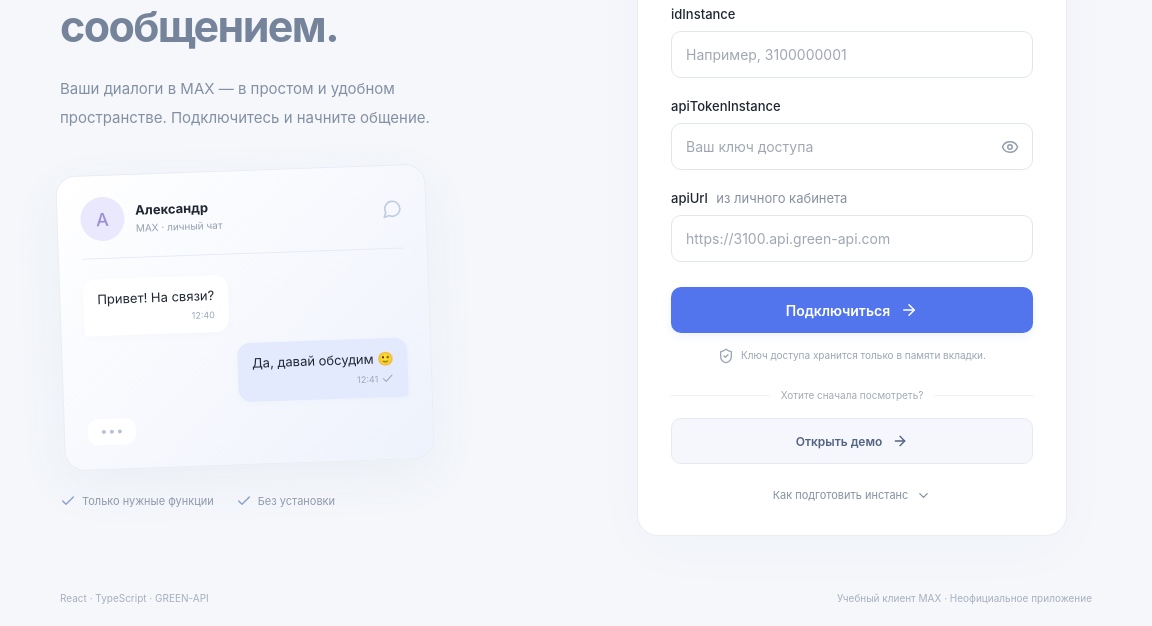
Test case: Пользовательские сценарии › создаёт чат, проверяет неверный телефон и фильтрует список
(page scrolled)
Click the button "Открыть демо" at (852,441), box [671, 418, 1033, 464]
(page scrolled)
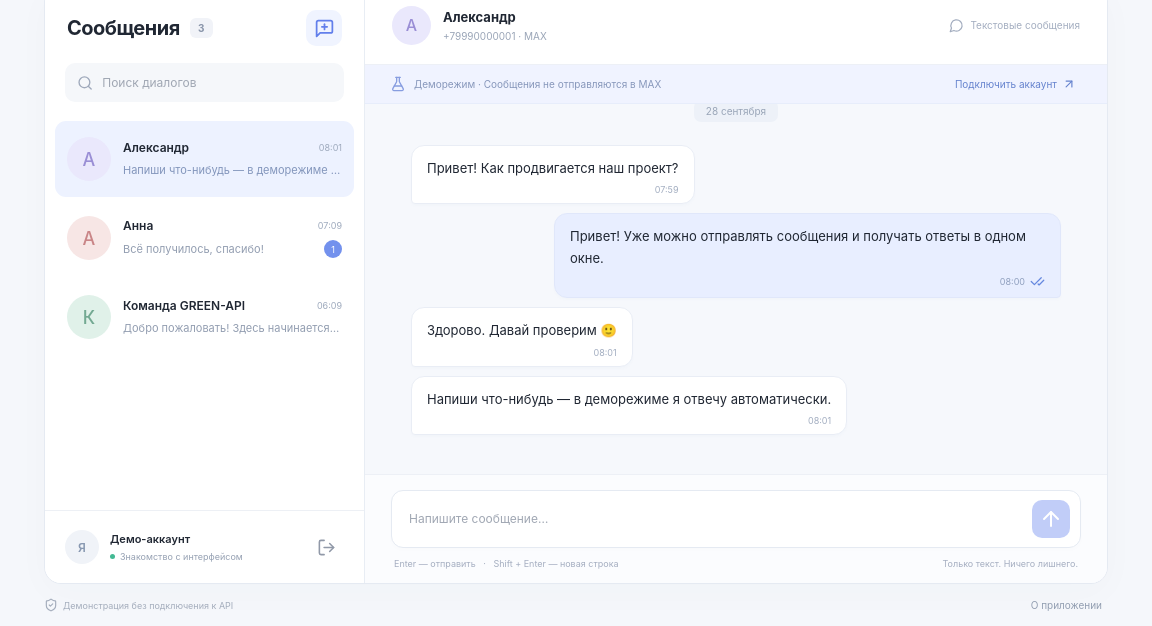
Click the button named "Новый чат" at (324,28), box [306, 10, 342, 46]
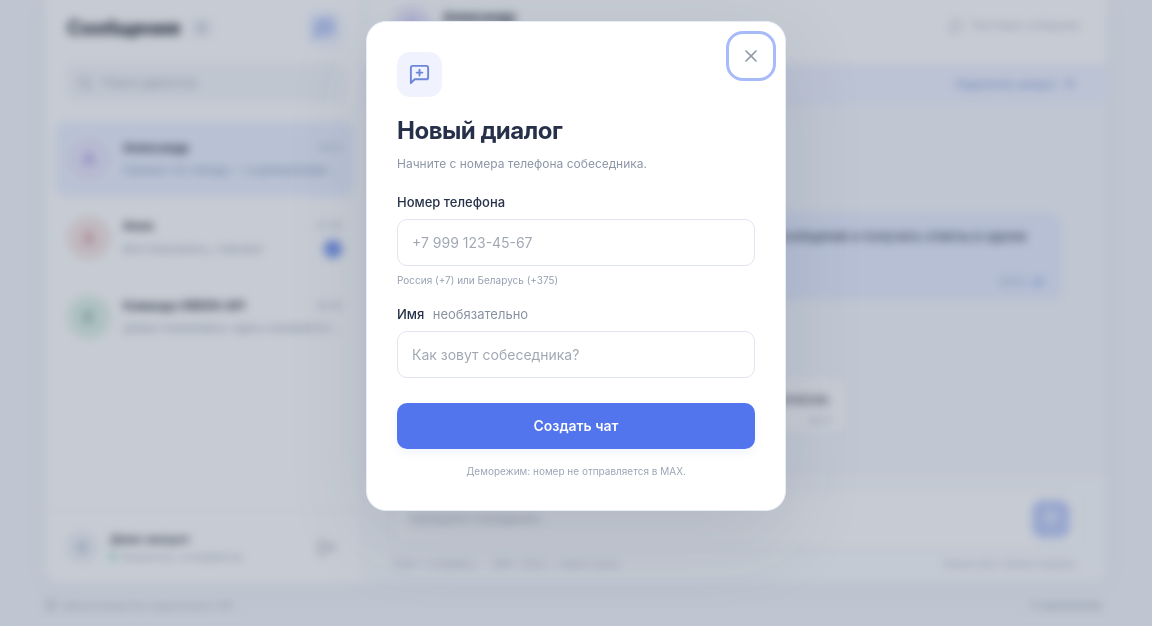
Type "123" into the field labelled "Номер телефона" at (576,242), box [397, 219, 755, 266]
Click the button "Создать чат" at (576,426), box [397, 403, 755, 449]
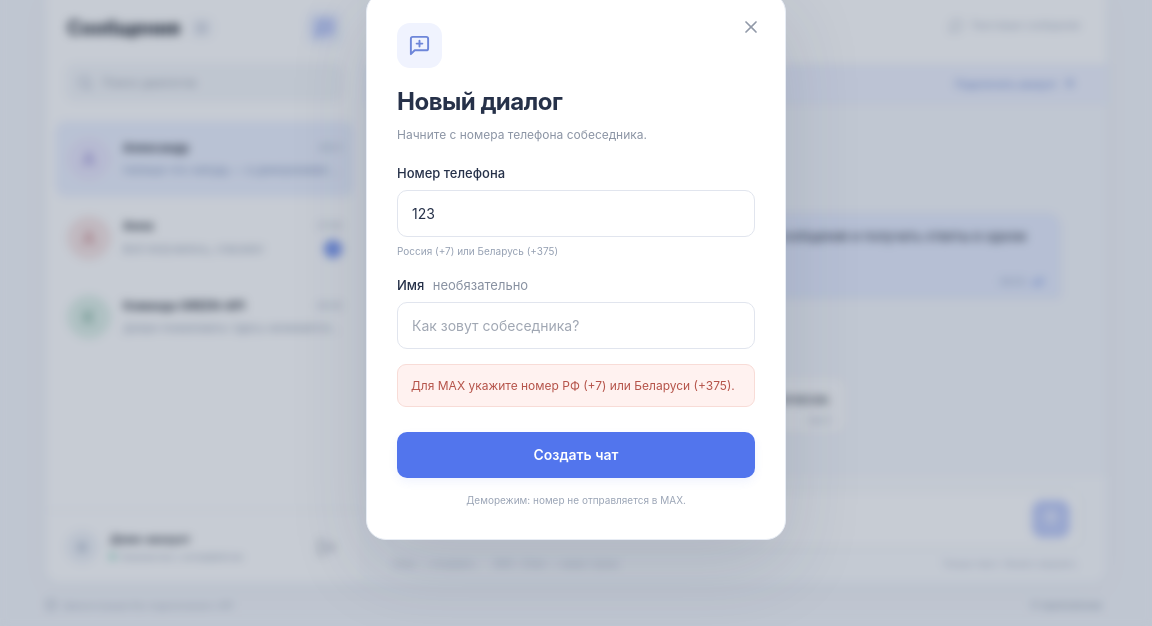
Check: the message shows "Для MAX", box [411, 378, 735, 392]
Replace the text in the field labelled "Номер телефона" with "+7 999 123-45-67" at (576,213), box [397, 190, 755, 236]
Type "Мария" into the field labelled "Имя необязательно" at (576,325), box [397, 302, 755, 348]
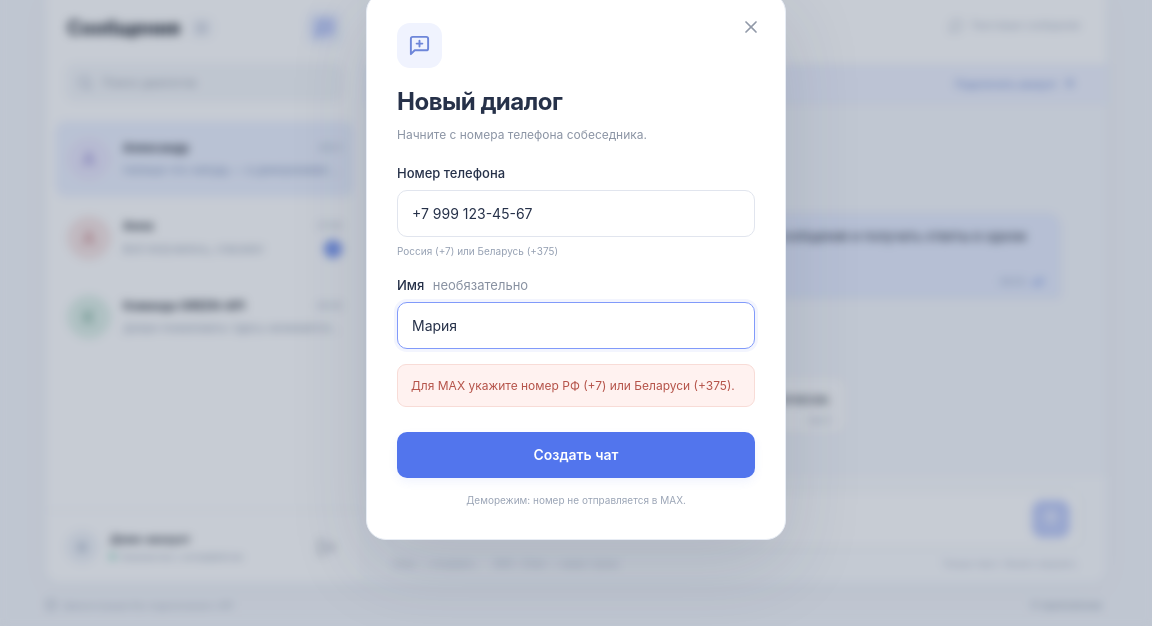
Click the button "Создать чат" at (576,455), box [397, 432, 755, 478]
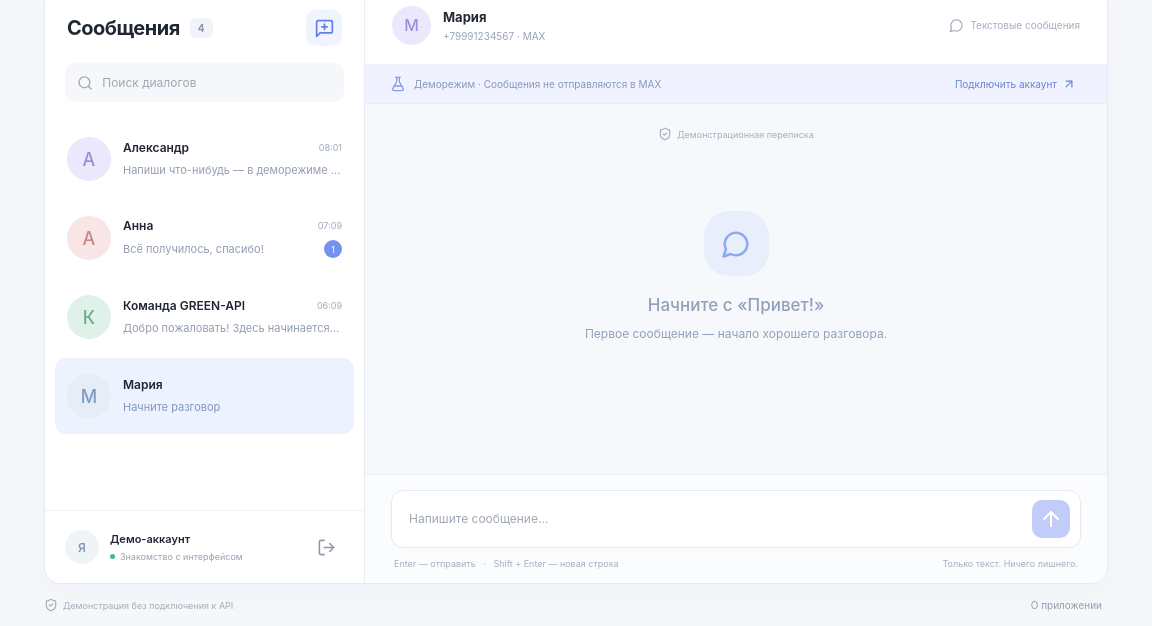
Check: the heading "Мария" is shown, box [443, 8, 486, 24]
Type "несуществующий" into the field labelled "Поиск диалогов" at (217,82), box [102, 63, 332, 102]
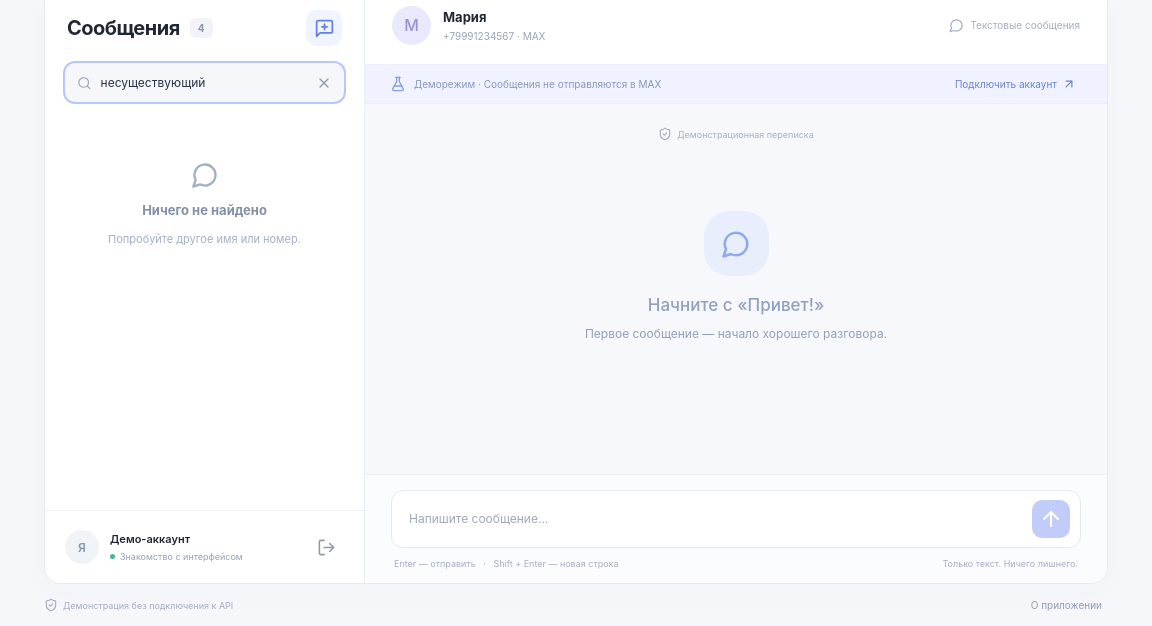
Check: the text "Ничего не найдено" is shown, box [142, 202, 267, 218]
